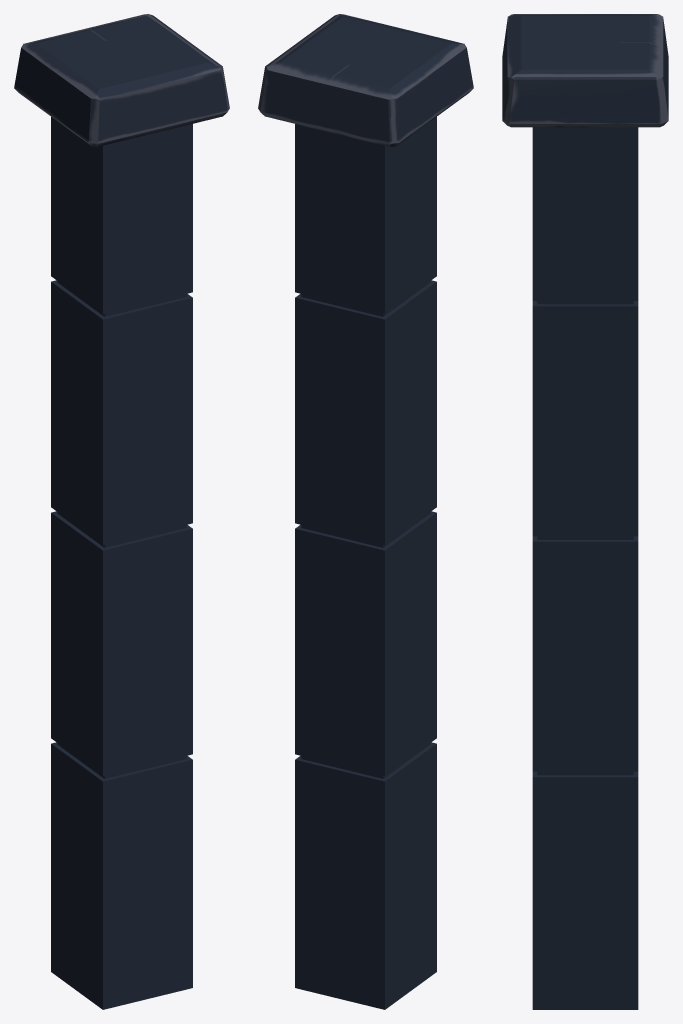
Rendered from StonePillar1.fbx.
3 views of the same model, side by side, from view 1: azimuth 30°, elevation 25°; view 2: azimuth 150°, elevation 25°; view 3: azimuth 270°, elevation 25° (orthographic).
Visible parts, largest first — view 1: Pillar; view 2: Pillar; view 3: Pillar.
Part boxes in pixels (x1,y1,x2,y2): Pillar: (14,14,229,1009); Pillar: (258,14,473,1009); Pillar: (502,14,668,1009).
Bounding box in the file's own units: 160 × 1003 × 160.
